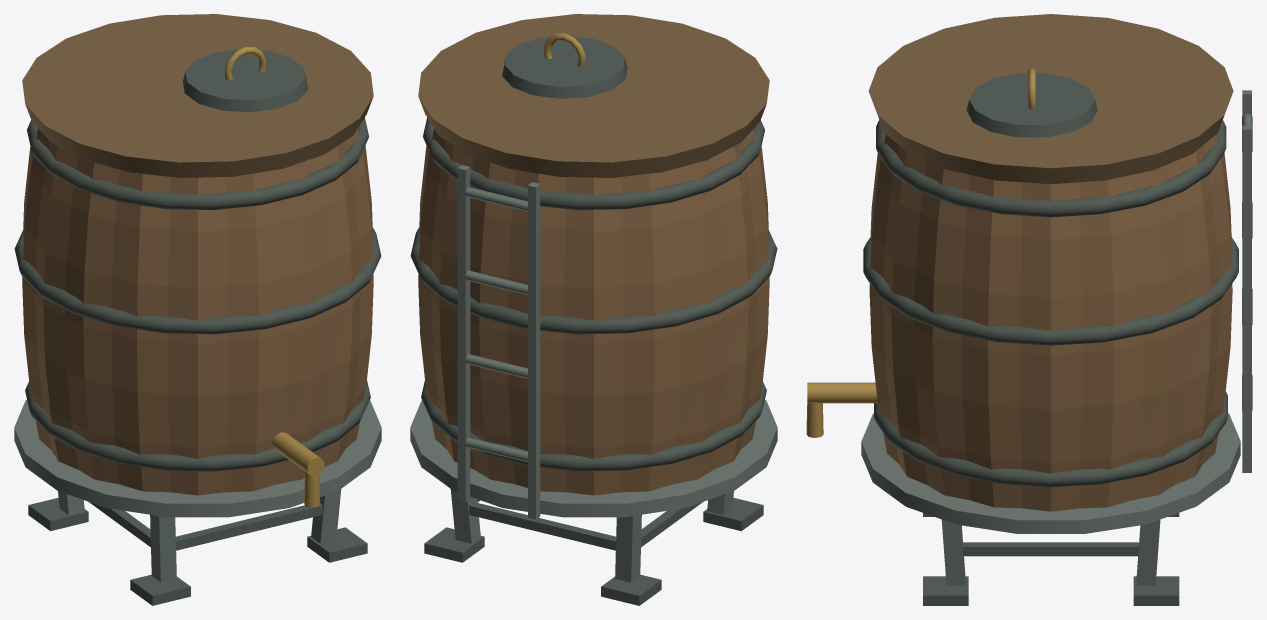
File: farm-water-butt.fixed.glb
3 renders of one model, left to right at view 1: azimuth 30°, elevation 25°; view 2: azimuth 150°, elevation 25°; view 3: azimuth 270°, elevation 25°, orthographic. The views are drawn at different scales.
Visible parts, largest first — view 1: waterButtStaves, waterButtHardware; view 2: waterButtHardware, waterButtStaves; view 3: waterButtStaves, waterButtHardware.
Part boxes in pixels (x1=…): waterButtStaves: x1=22, y1=128, x2=373, y2=495; waterButtHardware: x1=14, y1=14, x2=381, y2=605; waterButtHardware: x1=410, y1=14, x2=777, y2=605; waterButtStaves: x1=418, y1=128, x2=769, y2=495; waterButtStaves: x1=869, y1=134, x2=1232, y2=511; waterButtHardware: x1=806, y1=14, x2=1252, y2=605.
Bounding box in the file's own units: 0.6856 × 1 × 0.806.
